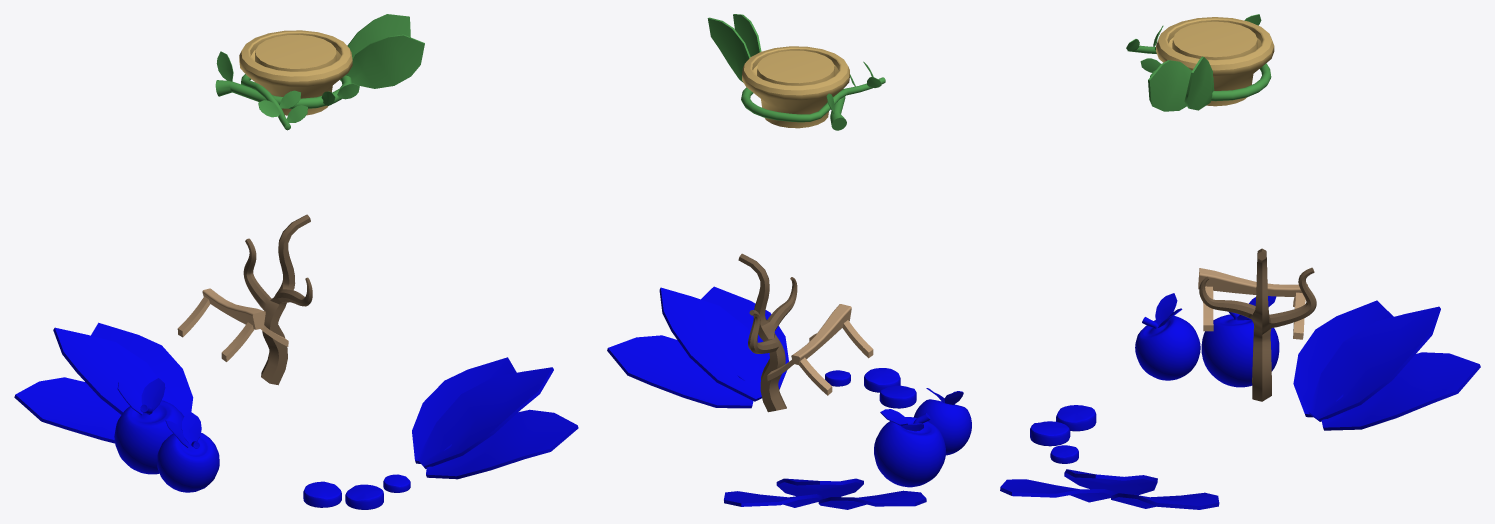
3 views of the same model, side by side, from view 1: azimuth 30°, elevation 25°; view 2: azimuth 150°, elevation 25°; view 3: azimuth 270°, elevation 25° (orthographic). The views are drawn at different scales.
Parts seen in each view (by area): view 1: Leaf3 (×2), Leaf4 (×2), Leaf2 (×2), Cork, blurberyy (×2), pCylinder1, Leaf6, VIne, Leaf14, roof1, rock2, rock1; view 2: Leaf3 (×2), Leaf2 (×2), Cork, blurberyy (×2), pCylinder1, Leaf4 (×2), VIne, Leaf14, roof1, rock2, rock1, Leaf6 (+2 smaller); view 3: Leaf3 (×2), Leaf4 (×2), blurberyy (×2), Cork, Leaf2 (×2), pCylinder1, Leaf6, roof1, Leaf14, VIne, rock1, rock2.
Part boxes in pixels (x1=…): Leaf3 (×2): x1=53, y1=327, x2=553, y2=468; Leaf4 (×2): x1=91, y1=322, x2=578, y2=479; Leaf2 (×2): x1=14, y1=357, x2=516, y2=463; Cork: x1=239, y1=30, x2=352, y2=115; blurberyy (×2): x1=114, y1=400, x2=219, y2=492; pCylinder1: x1=243, y1=214, x2=312, y2=385; Leaf6: x1=345, y1=34, x2=424, y2=88; VIne: x1=215, y1=74, x2=351, y2=130; Leaf14: x1=347, y1=14, x2=410, y2=59; roof1: x1=202, y1=288, x2=265, y2=329; rock2: x1=303, y1=481, x2=341, y2=507; rock1: x1=345, y1=484, x2=383, y2=509; Leaf3 (×2): x1=659, y1=287, x2=863, y2=498; Leaf2 (×2): x1=607, y1=335, x2=926, y2=509; Cork: x1=742, y1=46, x2=849, y2=128; blurberyy (×2): x1=874, y1=391, x2=971, y2=487; pCylinder1: x1=738, y1=253, x2=797, y2=412; Leaf4 (×2): x1=701, y1=286, x2=823, y2=507; VIne: x1=741, y1=77, x2=885, y2=130; Leaf14: x1=707, y1=17, x2=750, y2=82; roof1: x1=791, y1=304, x2=851, y2=364; rock2: x1=879, y1=385, x2=916, y2=408; rock1: x1=864, y1=368, x2=900, y2=392; Leaf6: x1=733, y1=14, x2=761, y2=56; Leaf3 (×2): x1=1064, y1=306, x2=1440, y2=495; Leaf4 (×2): x1=1000, y1=352, x2=1480, y2=502; blurberyy (×2): x1=1135, y1=311, x2=1279, y2=387; Cork: x1=1156, y1=17, x2=1274, y2=106; Leaf2 (×2): x1=1111, y1=300, x2=1393, y2=509; pCylinder1: x1=1199, y1=248, x2=1316, y2=401; Leaf6: x1=1148, y1=60, x2=1191, y2=111; roof1: x1=1198, y1=268, x2=1307, y2=296; Leaf14: x1=1184, y1=56, x2=1214, y2=110; VIne: x1=1127, y1=45, x2=1271, y2=101; rock1: x1=1030, y1=421, x2=1070, y2=446; rock2: x1=1056, y1=405, x2=1096, y2=431.
Size of the model in its own units: 24.3 by 24.3 by 23.85.
